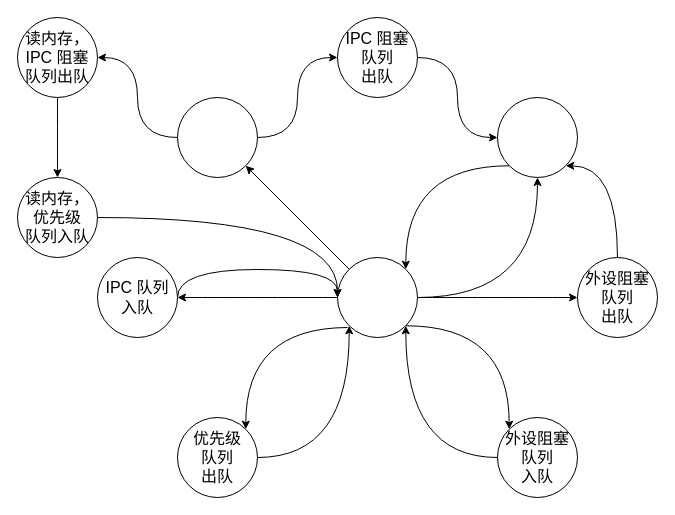
The diagram is 675 pixels wide and 515 high, and some of its shapes have lost their labels. Here are the shapes that lost their labels. From the top down, the centre of each, then its label:
At (217,137): "查询 状态表".
At (537,137): "优先级 队列 入队".
At (377,297): "空闲".
